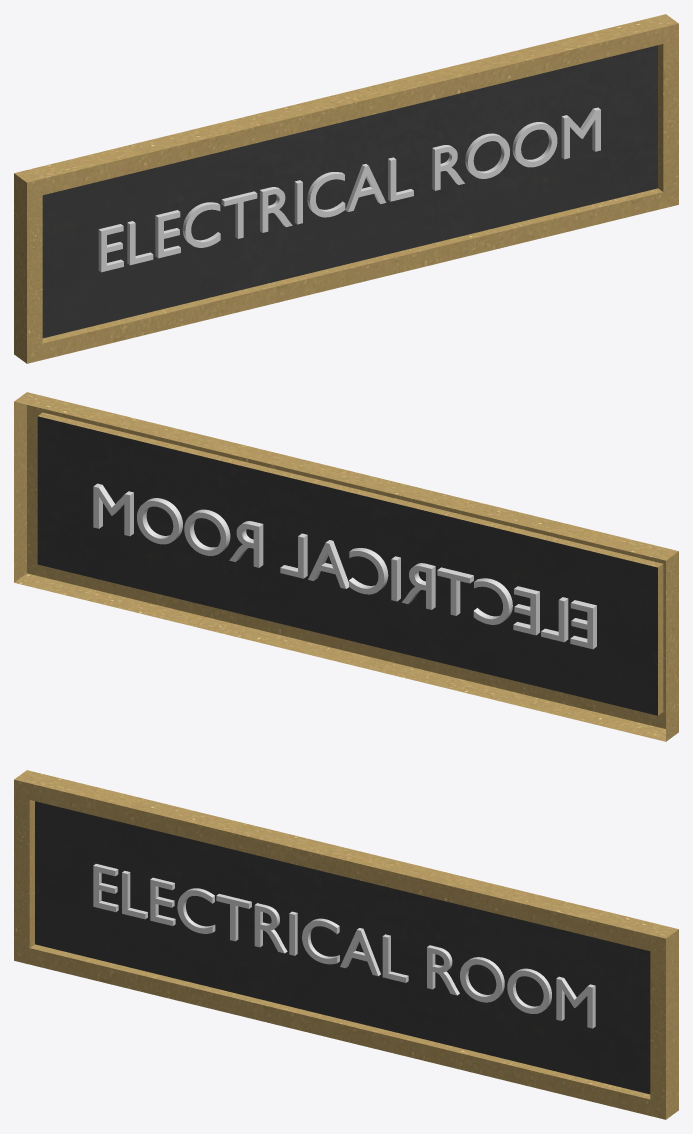
Rendered from Plate_Electrical.fbx.
3 renders of one model, top to bottom at view 1: azimuth 30°, elevation 25°; view 2: azimuth 150°, elevation 25°; view 3: azimuth 330°, elevation 25°, orthographic.
Visible parts, largest first — view 1: NameplateBriefingRoom.003; view 2: NameplateBriefingRoom.003; view 3: NameplateBriefingRoom.003.
Boxes of the visible parts, box(x1,y1,x2,y2) form: NameplateBriefingRoom.003: box(14, 14, 678, 363); NameplateBriefingRoom.003: box(14, 392, 678, 741); NameplateBriefingRoom.003: box(14, 770, 678, 1119).
Bounding box in the file's own units: 29 × 7.7 × 1.
3 materials, 2 textured.
